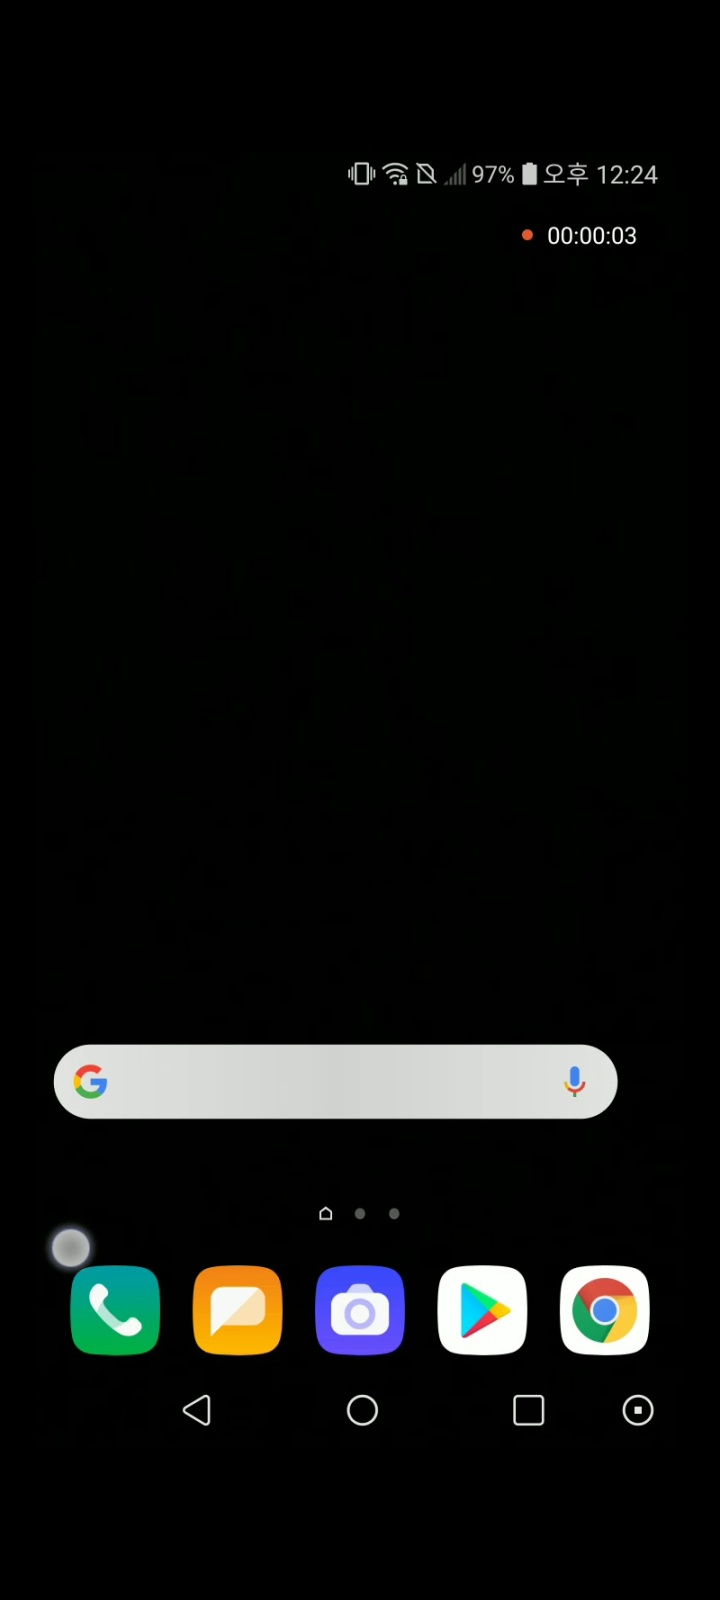Cursor: (50, 1227, 95, 1272)
